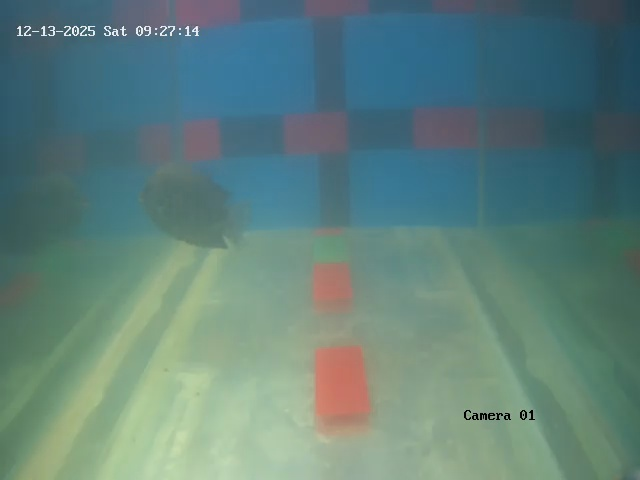fish: (139, 167, 254, 252)
